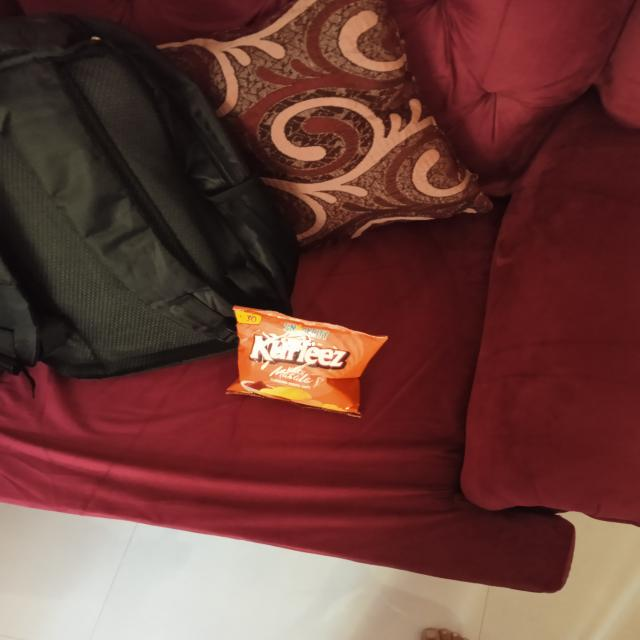Plastic: (217, 300, 390, 425)
